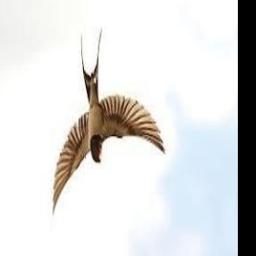Swallow: (52, 28, 164, 216)
